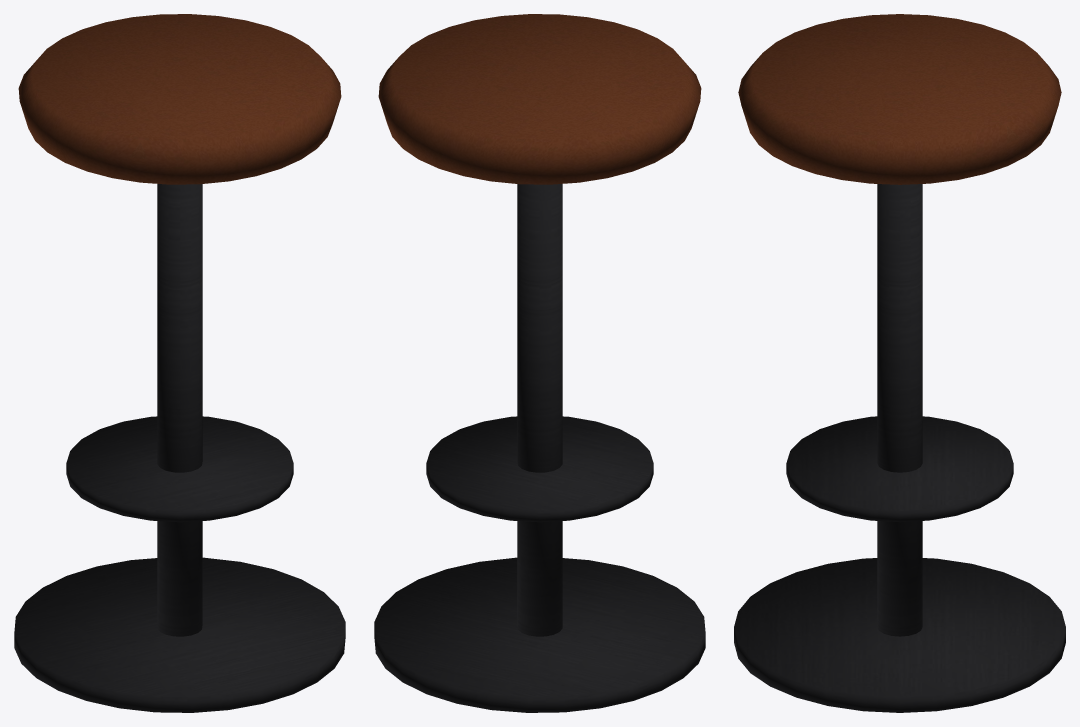
Rendered from kitchen_stool_b.glb.
The picture shows the model from 3 angles, left to right: view 1: azimuth 30°, elevation 25°; view 2: azimuth 150°, elevation 25°; view 3: azimuth 270°, elevation 25°; orthographic projection.
Parts seen in each view (by area): view 1: kitchen_stool_b; view 2: kitchen_stool_b; view 3: kitchen_stool_b.
Part boxes in pixels (x1,y1,x2,y2): kitchen_stool_b: [14, 14, 345, 712]; kitchen_stool_b: [374, 14, 705, 712]; kitchen_stool_b: [734, 14, 1065, 712].
Size of the model in its own units: 0.38 by 0.715 by 0.38.
2 materials, 2 textured.
